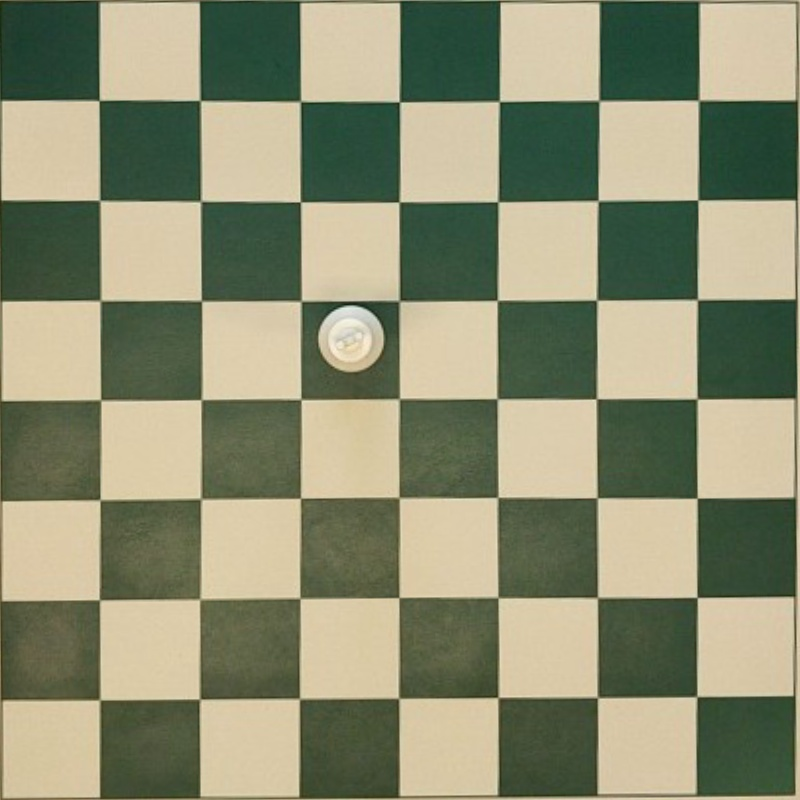white-king: (318, 305, 385, 372)
